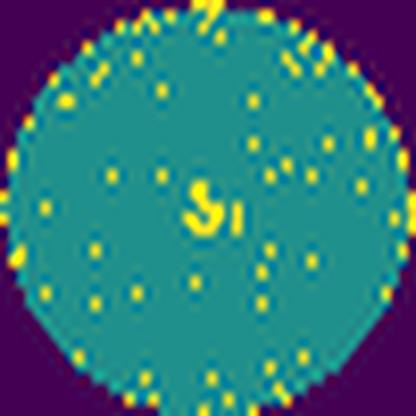Center: (182, 176, 227, 236)
